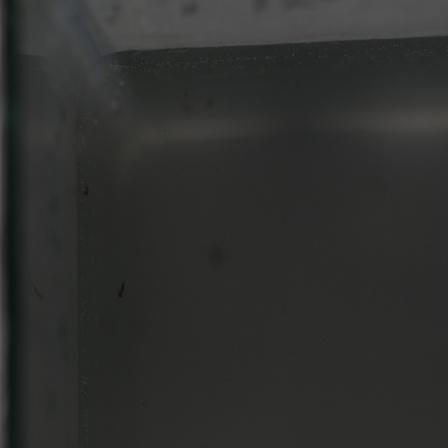Jentik-Nyamuk: (113, 274, 130, 302)
